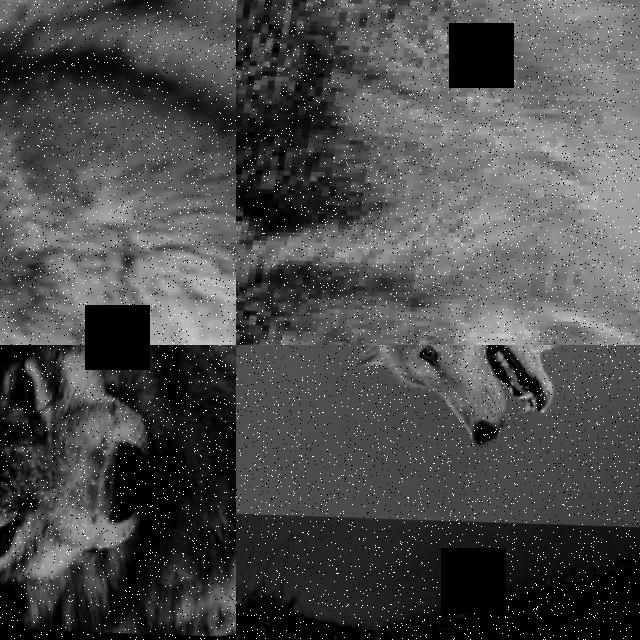wolf: (236, 0, 640, 345), (236, 423, 640, 640), (0, 0, 236, 345), (0, 345, 236, 640), (310, 345, 640, 503), (236, 345, 640, 416)
